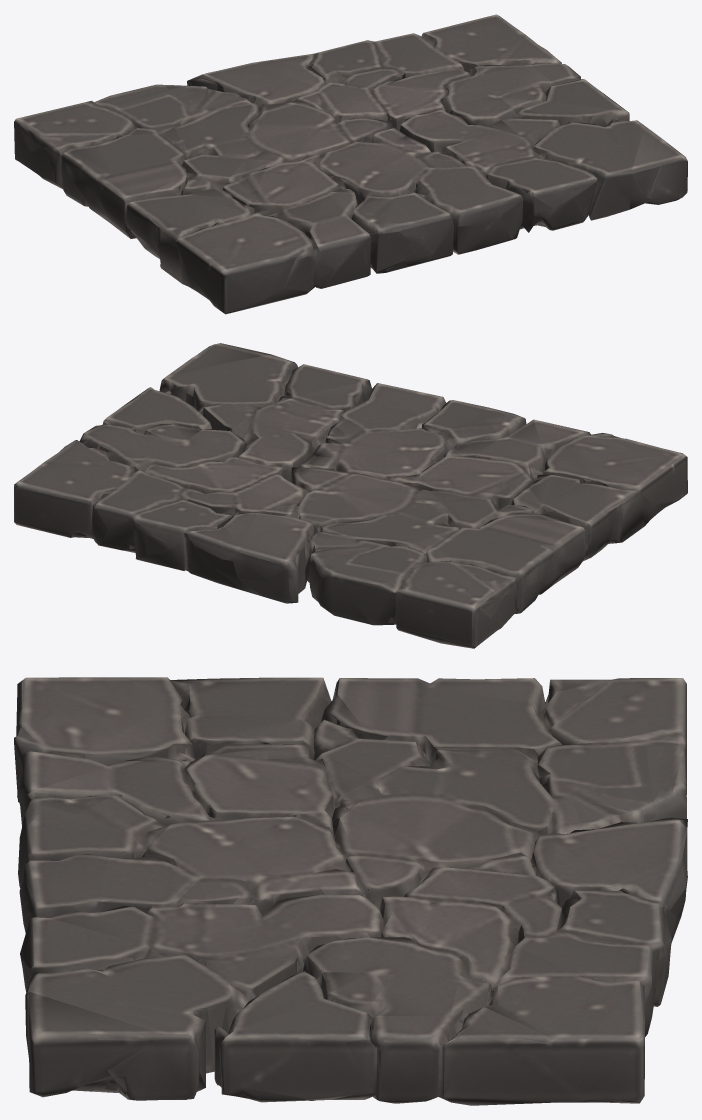
Rendered from Meshy_AI_Floating_Stone_Tiles_1020082741_texture.fbx.
3 renders of one model, top to bottom at view 1: azimuth 30°, elevation 25°; view 2: azimuth 150°, elevation 25°; view 3: azimuth 270°, elevation 25°, orthographic. The views are drawn at different scales.
Visible parts, largest first — view 1: Mesh_0; view 2: Mesh_0; view 3: Mesh_0.
Part boxes in pixels (box(x1,y1,x2,y2)): Mesh_0: box(14, 14, 687, 314); Mesh_0: box(14, 343, 687, 648); Mesh_0: box(14, 677, 687, 1105).
Size of the model in its own units: 190 by 18.03 by 149.
1 material, 1 textured.
